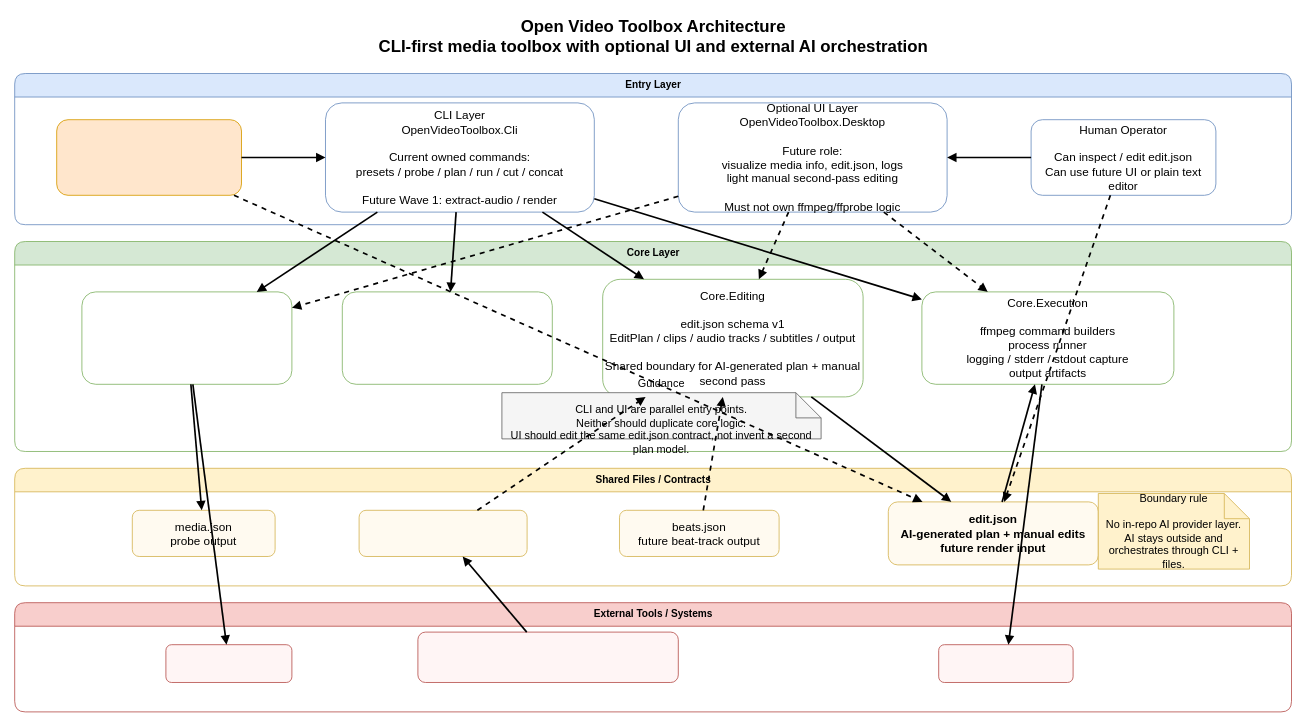
The diagram is 1306 pixels wide and 727 high, and some of its shapes have lost their labels. Here are the shapes that lost their labels. From the top down, the centre of each, then its label:
point 149,157: External AI / Scripts Claude / Codex / automation Uses CLI + JSON files only
point 186,337: Core.Media ffprobe wrapper normalized media metadata input / track information
point 446,337: Core.Jobs + Core.Presets task model preset model stable CLI-facing plan inputs
point 442,532: transcript.json from external AI / tools
point 228,663: ffprobe
point 547,656: External AI / media tools produce transcript.json or edit suggestions
point 1005,663: ffmpeg
